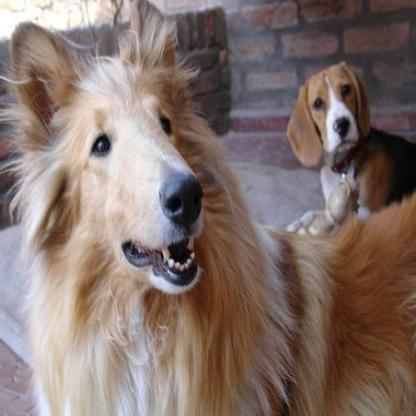collie: (11, 1, 413, 412)
